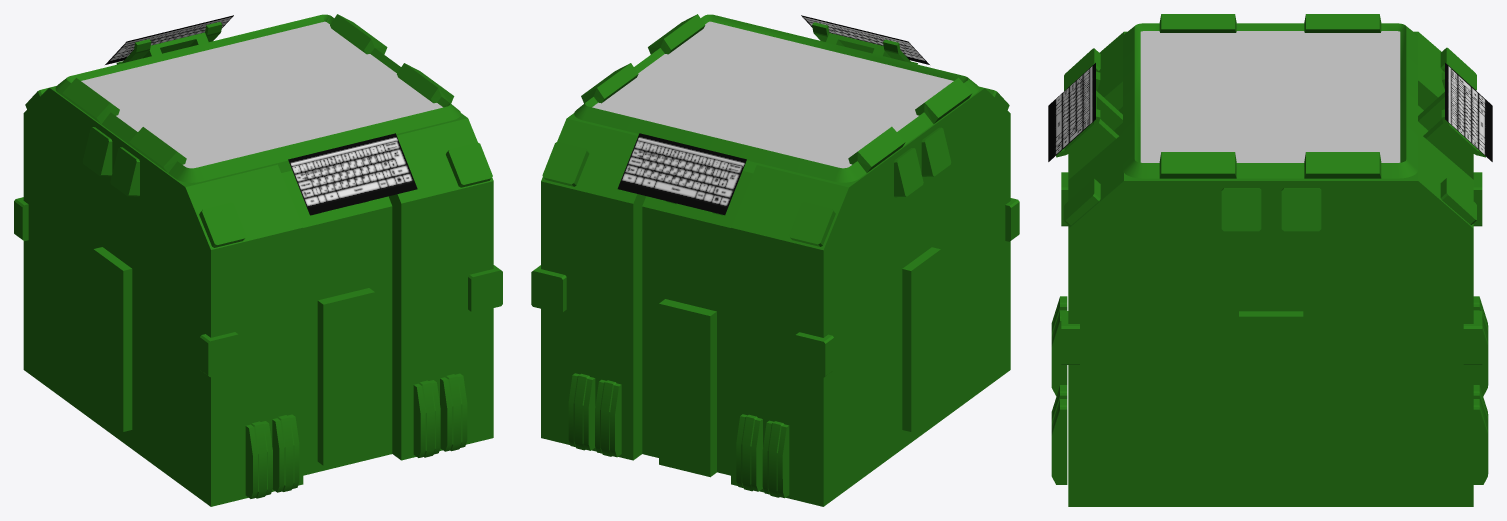
File: holo_table.FBX
3 views of the same model, side by side, from view 1: azimuth 30°, elevation 25°; view 2: azimuth 150°, elevation 25°; view 3: azimuth 270°, elevation 25° (orthographic). The views are drawn at different scales.
Parts seen in each view (by area): view 1: holo_table, Plane012, Object008, keyboard01, keyboard02; view 2: holo_table, Plane012, Object008, keyboard02, keyboard01; view 3: holo_table, Plane012, Object008, keyboard02, keyboard01.
Boxes of the visible parts, left/top/right/bottom form: holo_table: left=14, top=22, right=502, bottom=506; Plane012: left=81, top=21, right=442, bottom=168; Object008: left=55, top=14, right=460, bottom=182; keyboard01: left=288, top=133, right=417, bottom=215; keyboard02: left=105, top=15, right=233, bottom=64; holo_table: left=531, top=22, right=1019, bottom=506; Plane012: left=592, top=21, right=953, bottom=168; Object008: left=574, top=14, right=979, bottom=182; keyboard02: left=617, top=133, right=746, bottom=215; keyboard01: left=801, top=15, right=929, bottom=64; holo_table: left=1051, top=31, right=1488, bottom=506; Plane012: left=1140, top=31, right=1400, bottom=162; Object008: left=1123, top=14, right=1417, bottom=178; keyboard02: left=1445, top=63, right=1492, bottom=161; keyboard01: left=1048, top=63, right=1095, bottom=161.
Size of the model in its own units: 191 by 191 by 221.
